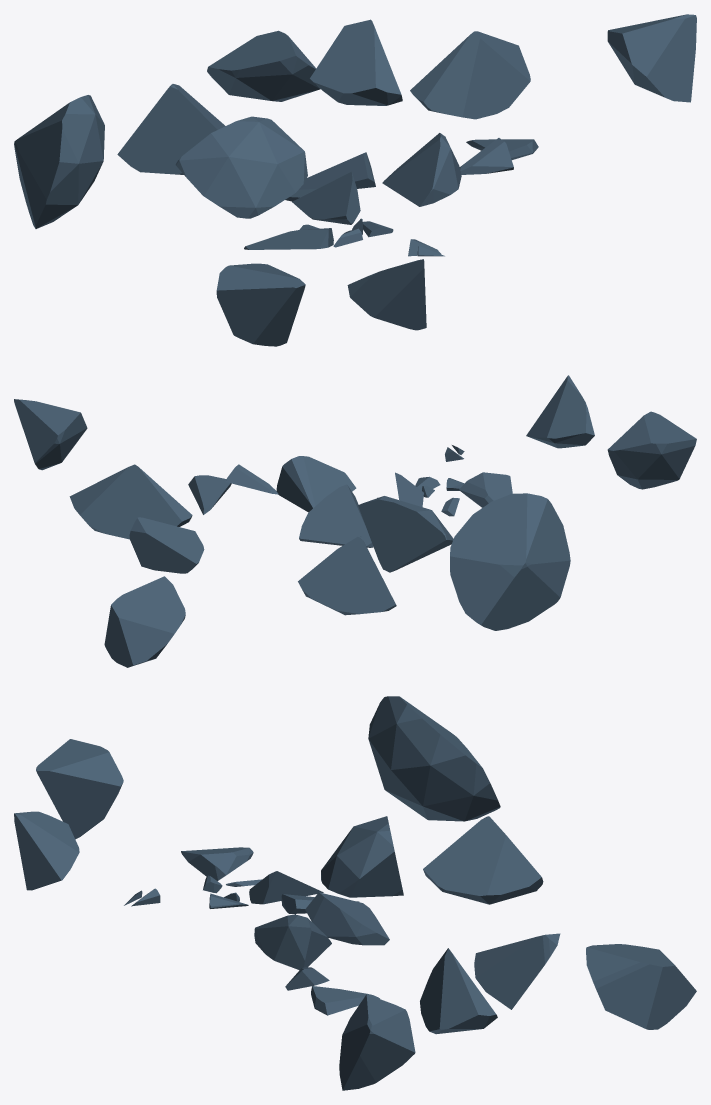
File: RockGroup3.fbx
3 views of the same model, one above another, from view 1: azimuth 30°, elevation 25°; view 2: azimuth 150°, elevation 25°; view 3: azimuth 270°, elevation 25° (orthographic). The views are drawn at different scales.
Parts seen in each view (by area): view 1: StoneGroup3; view 2: StoneGroup3; view 3: StoneGroup3.
Part boxes in pixels (x1,y1,x2,y2): StoneGroup3: (14,14,696,346); StoneGroup3: (14,375,696,667); StoneGroup3: (14,696,696,1090).
Bounding box in the file's own units: 6695 × 1765 × 6370.
